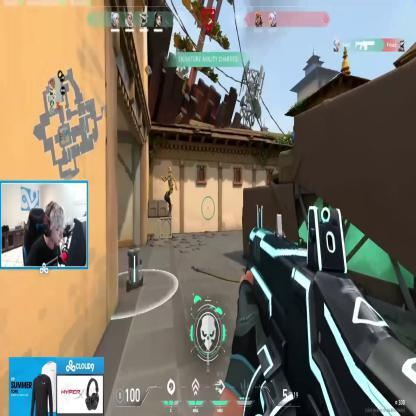enemy: (162, 166, 176, 214)
enemy_head: (168, 166, 172, 176)
